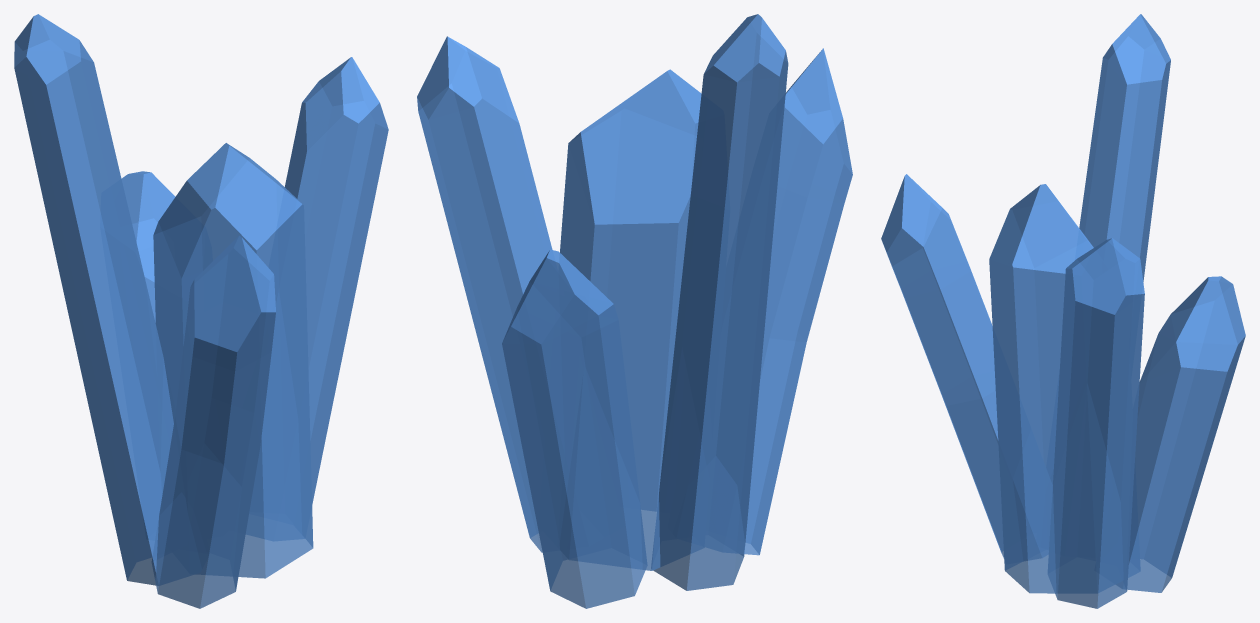
File: Crystals_l_05 5.fbx
The picture shows the model from 3 angles, left to right: view 1: azimuth 30°, elevation 25°; view 2: azimuth 150°, elevation 25°; view 3: azimuth 270°, elevation 25°; orthographic projection. The views are drawn at different scales.
Parts seen in each view (by area): view 1: Crystals_l_05; view 2: Crystals_l_05; view 3: Crystals_l_05.
Boxes of the visible parts, x1,y1,x2,y2 form: Crystals_l_05: (14,14,388,608); Crystals_l_05: (417,14,852,608); Crystals_l_05: (881,14,1245,608).
Size of the model in its own units: 269 by 418 by 275.
